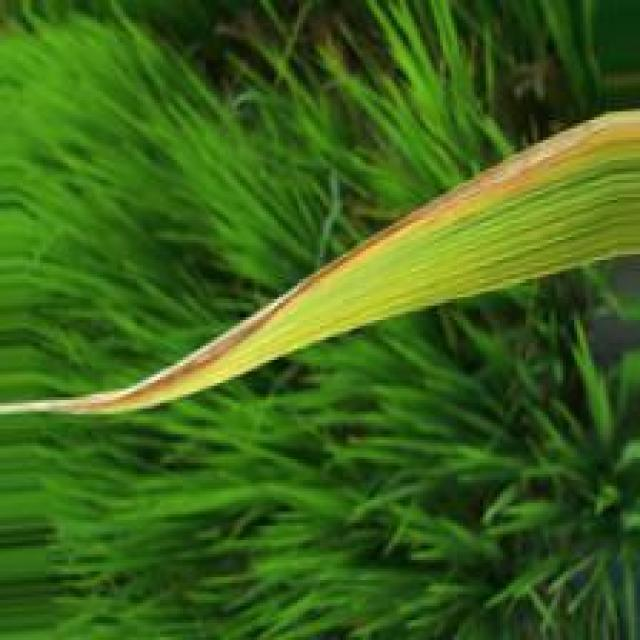Rice False Smut: (16, 111, 634, 412)
